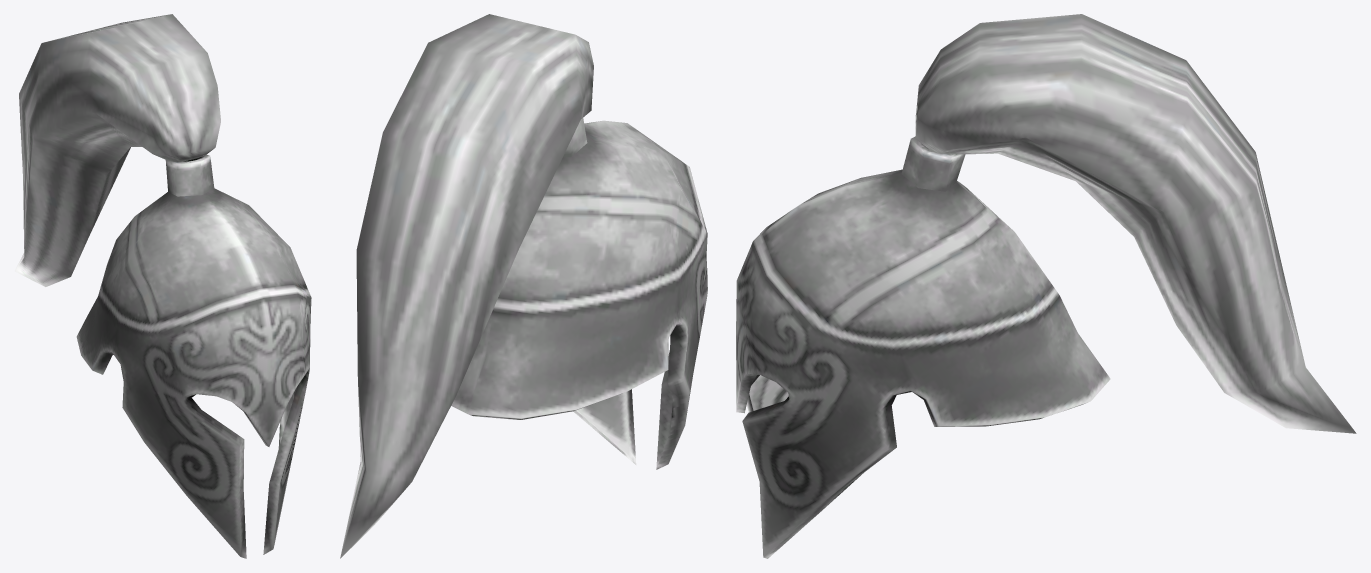
The model's file is rider-helmet-slice-championcavalry.glb.
3 views of the same model, side by side, from view 1: azimuth 30°, elevation 25°; view 2: azimuth 150°, elevation 25°; view 3: azimuth 270°, elevation 25° (orthographic). The views are drawn at different scales.
Bounding box in the file's own units: 0.2634 × 0.5911 × 0.6397.
1 material, 1 textured.
